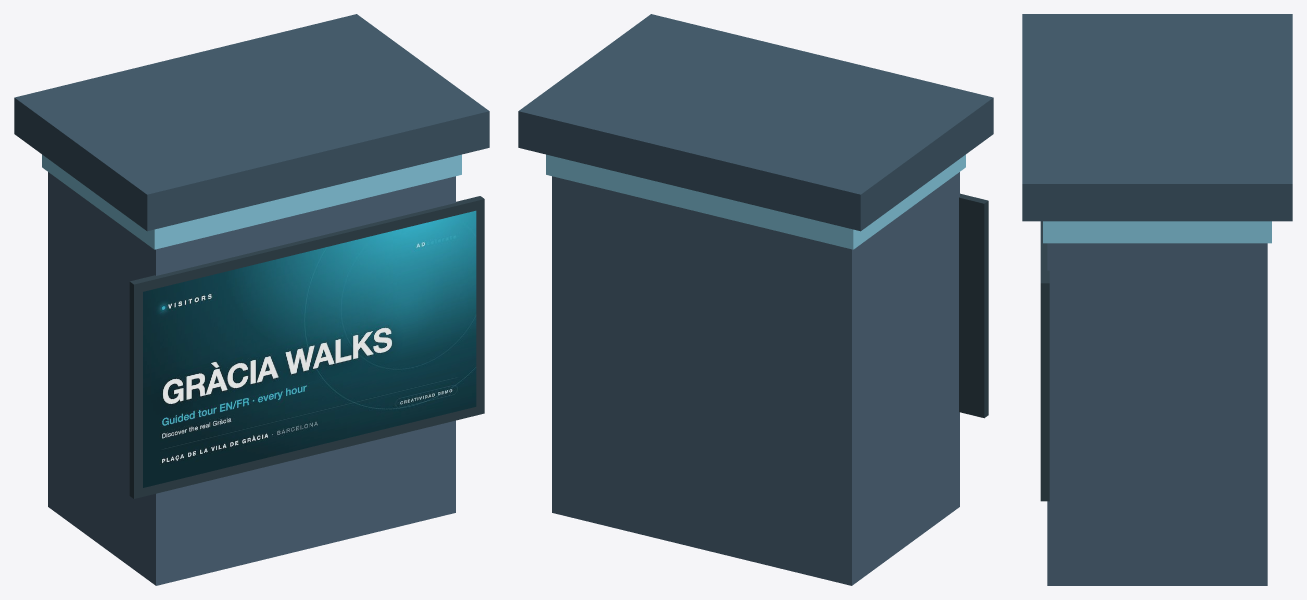
Rendered from kiosk-turistas.glb.
The picture shows the model from 3 angles, left to right: view 1: azimuth 30°, elevation 25°; view 2: azimuth 150°, elevation 25°; view 3: azimuth 270°, elevation 25°; orthographic projection.
Parts seen in each view (by area): view 1: kiosk; view 2: kiosk; view 3: kiosk.
Part boxes in pixels (bbox=[...]): kiosk: bbox=[14, 14, 489, 585]; kiosk: bbox=[518, 14, 993, 585]; kiosk: bbox=[1022, 14, 1292, 585].
Size of the model in its own units: 2.81 by 3.1 by 1.84.
5 materials, 1 textured.
